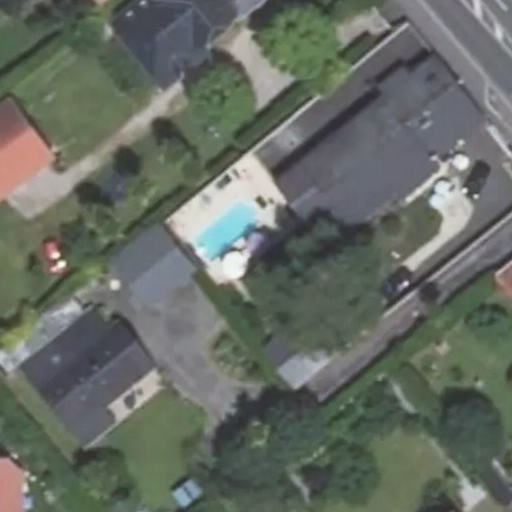pool: (224, 231, 287, 252)
